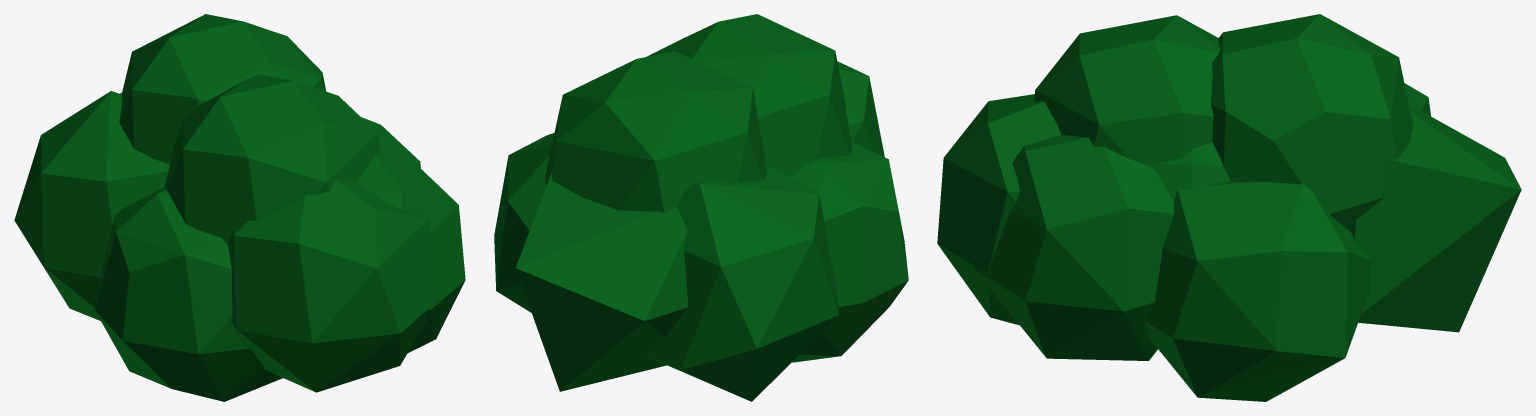
The model's file is Bush.fbx_Collection.fbx.
The picture shows the model from 3 angles, left to right: view 1: azimuth 30°, elevation 25°; view 2: azimuth 150°, elevation 25°; view 3: azimuth 270°, elevation 25°; orthographic projection. The views are drawn at different scales.
Parts seen in each view (by area): view 1: Cube.002, Cube.012, Cube.003, Cube.011, Cube.005, Cube.009, Cube.006; view 2: Cube.011, Cube.005, Cube.001, Cube.003, Cube.012, Cube.006, Cube.002; view 3: Cube.006, Cube.009, Cube.005, Cube.001, Cube.003, Cube.002, Cube.004.
Boxes of the visible parts, x1,y1,x2,y2 form: Cube.002: (228,179,439,392); Cube.012: (95,187,282,401); Cube.003: (164,74,380,244); Cube.011: (14,91,169,320); Cube.005: (119,14,326,164); Cube.009: (358,151,465,352); Cube.006: (361,117,420,168); Cube.011: (641,167,838,401); Cube.005: (545,51,766,213); Cube.001: (515,172,688,391); Cube.003: (646,14,851,176); Cube.012: (791,142,908,362); Cube.006: (494,133,554,312); Cube.002: (837,61,884,157); Cube.006: (1145,181,1370,401); Cube.009: (973,135,1174,360); Cube.005: (1211,14,1413,231); Cube.001: (1351,104,1521,332); Cube.003: (1034,15,1220,165); Cube.002: (937,94,1061,325); Cube.004: (1149,142,1230,202).
Size of the model in its own units: 295 by 246 by 395.
